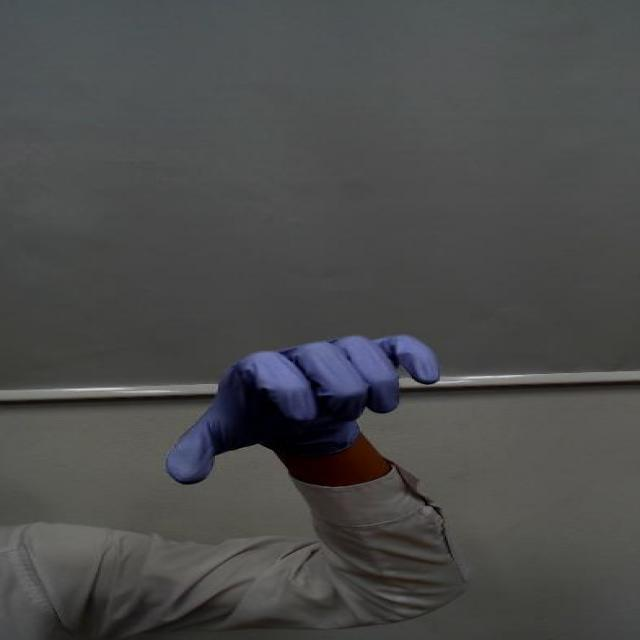Glove: (162, 307, 454, 488)
